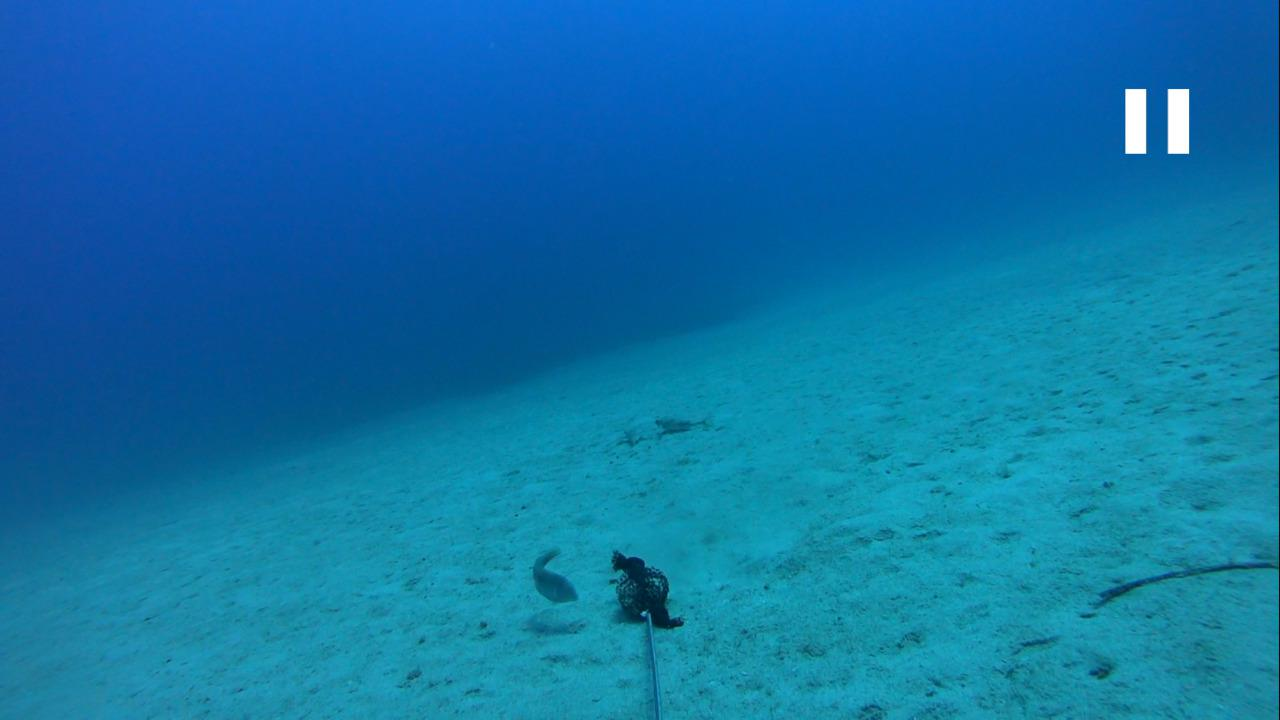dactylopterus: (633, 411, 709, 441)
raor: (523, 536, 581, 612)
